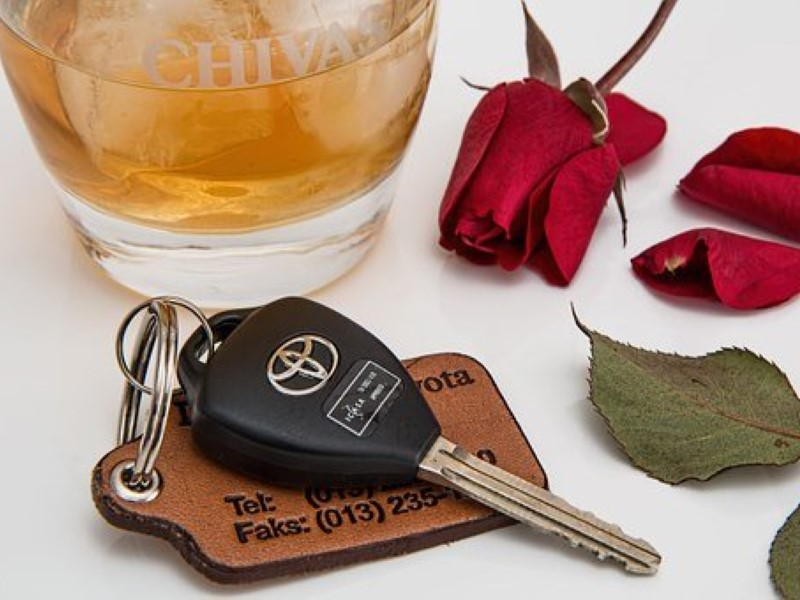carkey: (169, 293, 661, 582)
